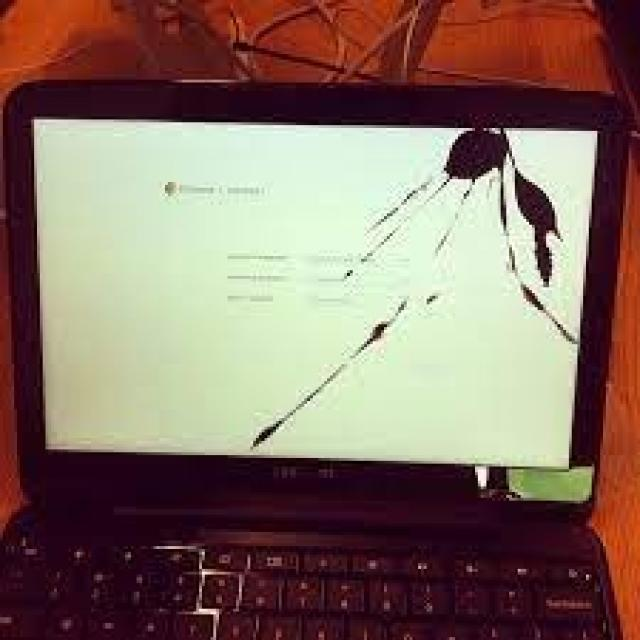Screen cracks: (242, 128, 589, 461)
